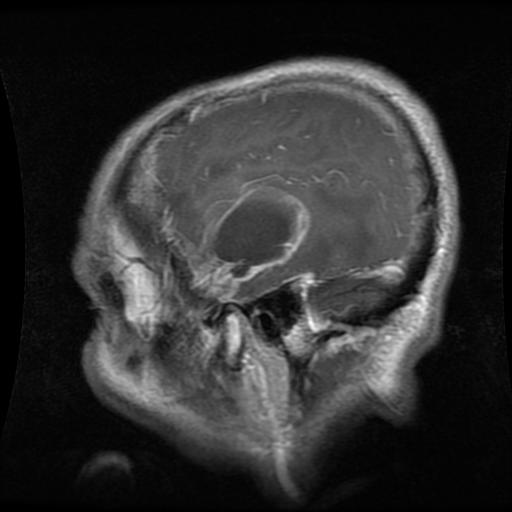Gliomia_tumour: (216, 185, 311, 277)
